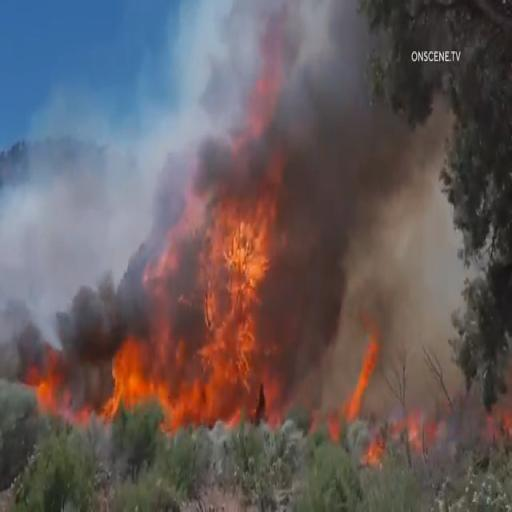fire: (199, 166, 288, 444), (92, 338, 200, 446), (16, 348, 76, 419)
smoke: (65, 150, 196, 324), (303, 21, 377, 260), (384, 164, 446, 352), (308, 272, 371, 453), (210, 0, 292, 121)
